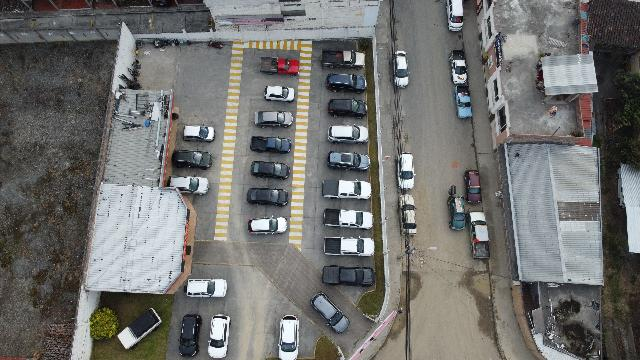Vehiculo: (118, 307, 162, 349), (310, 292, 350, 334), (322, 208, 373, 229), (322, 266, 374, 286), (178, 314, 202, 356), (324, 237, 374, 257), (322, 180, 372, 200), (208, 314, 230, 358), (468, 212, 489, 258), (278, 315, 298, 359), (321, 50, 365, 70), (448, 186, 468, 230), (326, 152, 369, 172), (186, 278, 227, 298), (326, 73, 366, 93), (328, 124, 368, 144), (168, 175, 208, 195), (328, 98, 368, 118), (172, 150, 212, 170), (398, 194, 417, 236), (396, 152, 416, 190), (259, 56, 299, 75), (250, 136, 292, 154), (247, 217, 287, 235), (248, 188, 288, 206), (250, 161, 290, 179), (254, 110, 294, 128), (448, 50, 468, 84), (454, 84, 472, 118), (464, 170, 482, 204), (393, 50, 409, 88), (183, 124, 215, 142), (446, 1, 464, 31), (264, 86, 294, 102)
